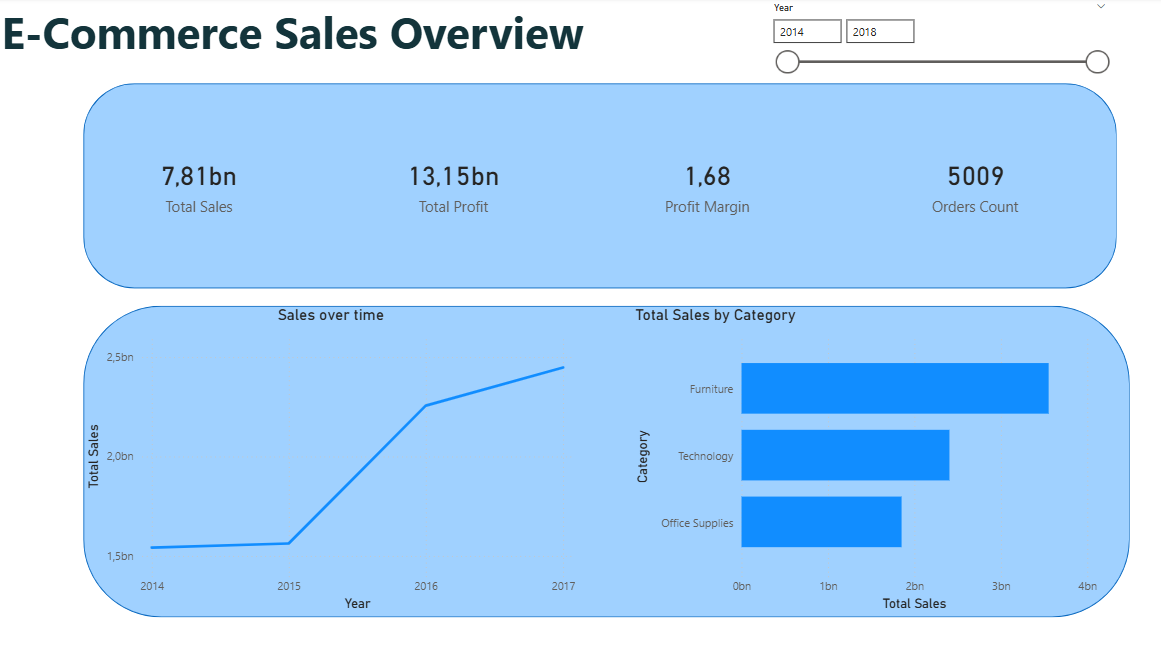

What the dashboard file says about the page in this screenshot:
{"tool":"powerbi","page":{"name":"Dashboard","canvas":[1280,720],"ordinal":0},"visuals":[{"type":"shape","box":[94.1,94.1,1134.6,225.2],"z":0,"group":"g1"},{"type":"group","id":"g1","title":"Group 1","box":[94.1,94.1,1148.9,585.8],"z":0},{"type":"card","fields":{"Values":["vw_FactSales.Total Sales"]},"box":[81.7,66.4,279.1,279.1],"z":1000},{"type":"shape","box":[94.1,337.8,1148.9,342.1],"z":1000,"group":"g1"},{"type":"card","fields":{"Values":["vw_FactSales.Total Profit"]},"box":[360.9,66.4,280.9,279.1],"z":2000},{"type":"card","fields":{"Values":["vw_FactSales.Profit Margin"]},"box":[640,66.4,280.9,279.1],"z":3000},{"type":"card","fields":{"Values":["vw_FactSales.Orders Count"]},"box":[934.5,66.4,279.1,279.1],"z":4000},{"type":"lineChart","title":"Sales over time","fields":{"Category":["vw_FactSales.OrderDate.Variation.Date Hierarchy.Year","vw_FactSales.OrderDate.Variation.Date Hierarchy.Quarter","vw_FactSales.OrderDate.Variation.Date Hierarchy.Month","vw_FactSales.OrderDate.Variation.Date Hierarchy.Day"],"Y":["vw_FactSales.Total Sales"]},"box":[93.6,338.7,546.4,340.4],"z":5000},{"type":"clusteredBarChart","fields":{"Category":["vw_FactSales.Category"],"Y":["vw_FactSales.Total Sales"]},"box":[696.2,338.7,517.4,340.4],"z":6000},{"type":"slicer","fields":{"Values":["Calendar.Year"]},"box":[839.1,0,389.8,93.6],"z":7000},{"type":"textbox","box":[0,0,721.7,80],"z":8000}]}

Visuals, with their boxes in screenshot pixels (x1, y1, x2, y2), scaled from the page's 1280x720 canvas onto the 1161x650 screenshot:
shape: (85, 85, 1114, 288)
"Group 1" group: (85, 85, 1127, 614)
card - vw_FactSales.Total Sales: (74, 60, 327, 312)
shape: (85, 305, 1127, 614)
card - vw_FactSales.Total Profit: (327, 60, 582, 312)
card - vw_FactSales.Profit Margin: (580, 60, 835, 312)
card - vw_FactSales.Orders Count: (848, 60, 1101, 312)
"Sales over time" lineChart: (85, 306, 580, 613)
clusteredBarChart - vw_FactSales.Category x vw_FactSales.Total Sales: (631, 306, 1101, 613)
slicer - Calendar.Year: (761, 0, 1115, 84)
textbox: (0, 0, 655, 72)
